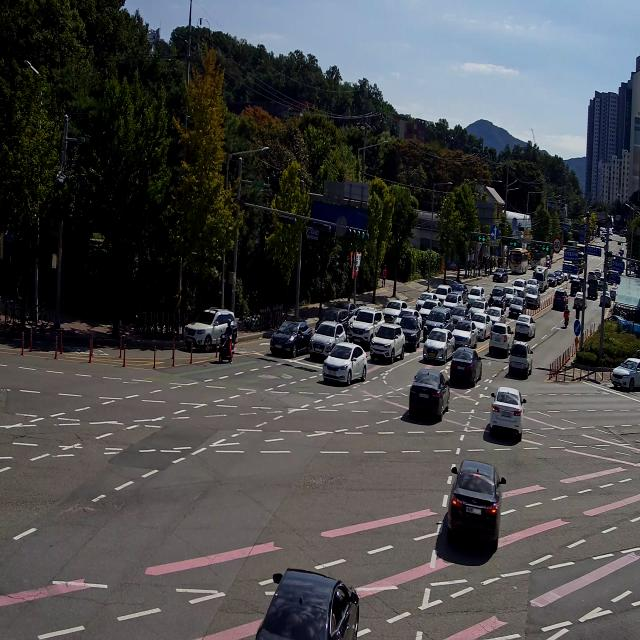Bus: (508, 244, 530, 278), (531, 244, 546, 268)
Car: (254, 545, 363, 640), (433, 448, 511, 554), (402, 369, 455, 424), (319, 339, 372, 394), (486, 381, 528, 449), (182, 300, 239, 350), (265, 316, 317, 361), (367, 318, 409, 367), (347, 304, 386, 351), (307, 319, 347, 361), (420, 322, 456, 363), (449, 347, 485, 386), (506, 340, 537, 383), (610, 350, 640, 393), (486, 318, 516, 358), (313, 306, 350, 338), (451, 316, 480, 350), (514, 309, 537, 345), (385, 295, 406, 328), (472, 309, 492, 342), (426, 307, 449, 332), (414, 286, 438, 309), (419, 299, 442, 323), (507, 295, 528, 321), (464, 283, 486, 307), (448, 303, 470, 326), (399, 305, 420, 329), (551, 287, 570, 313), (489, 282, 506, 310), (432, 278, 449, 304), (468, 296, 488, 317), (524, 286, 540, 311), (449, 280, 466, 302), (444, 290, 462, 310), (492, 266, 507, 289), (512, 275, 526, 297), (574, 290, 588, 310), (600, 290, 612, 313), (504, 283, 517, 304), (570, 278, 583, 296), (525, 278, 539, 290), (546, 270, 556, 286), (608, 286, 618, 302), (554, 268, 562, 286), (587, 270, 597, 284), (599, 276, 607, 292), (546, 253, 553, 269), (595, 266, 602, 276)
Motorcycle: (214, 320, 238, 371), (560, 299, 573, 333), (486, 290, 494, 310)
Truck: (532, 261, 549, 296), (587, 278, 600, 302)
